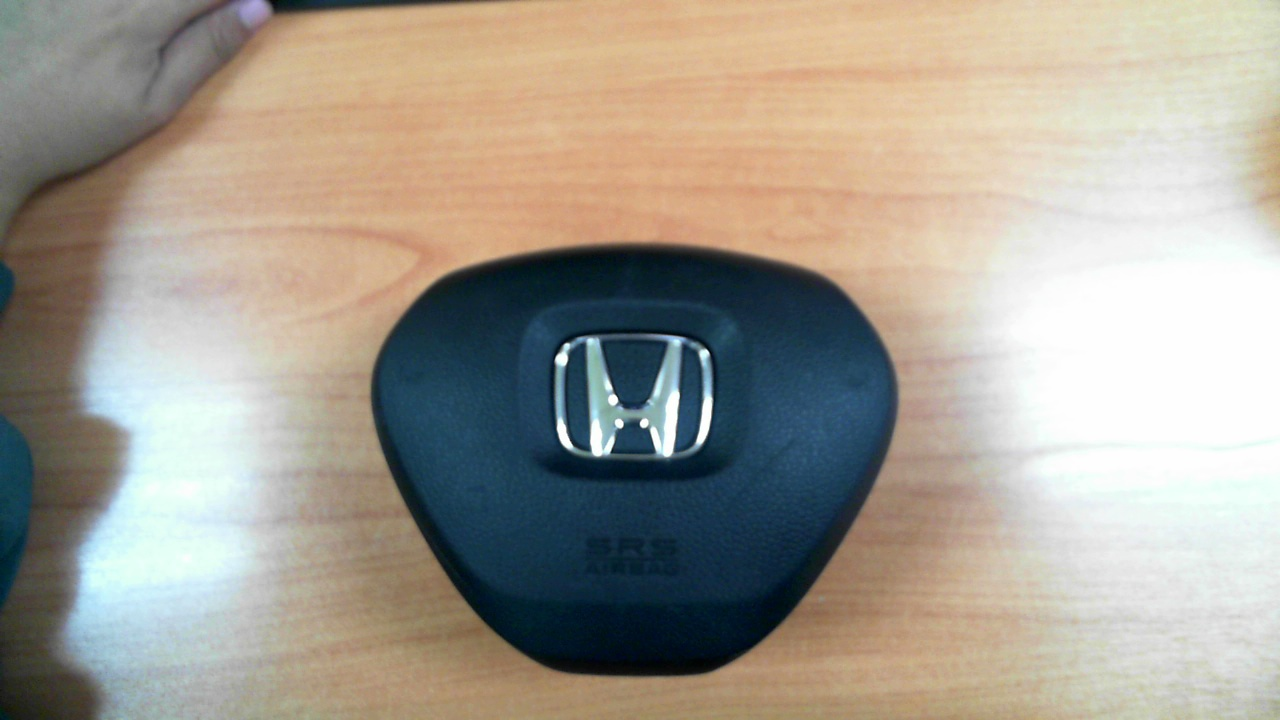Airbag: (369, 242, 899, 678)
Honda: (554, 333, 713, 458)
